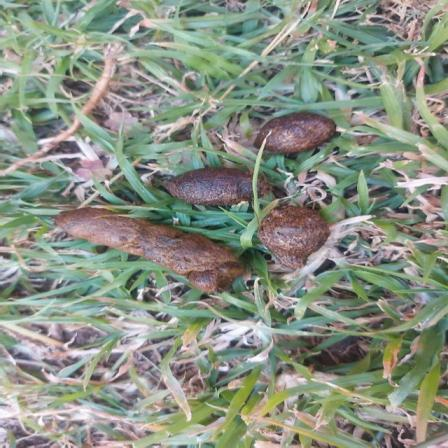dog-poop: (162, 124, 352, 243), (55, 196, 250, 303)
